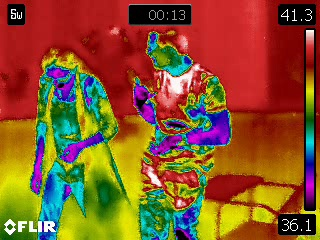human: (129, 28, 252, 240), (25, 44, 120, 240)
